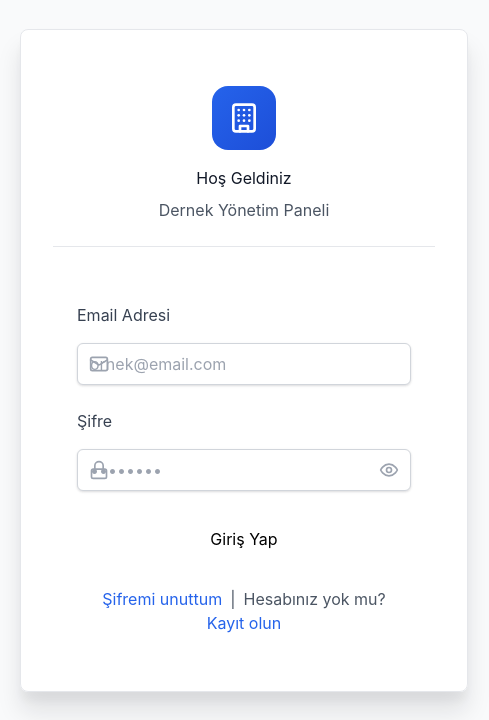
Test: Login Component › validates password length
Type "123" into the password field labelled "Şifre" at (244, 470), box [77, 448, 411, 490]
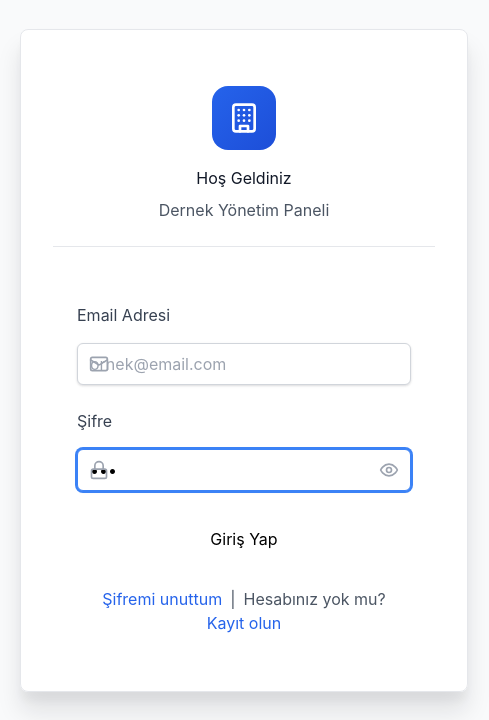
Click the button "Giriş Yap" at (244, 538), box [77, 514, 411, 562]
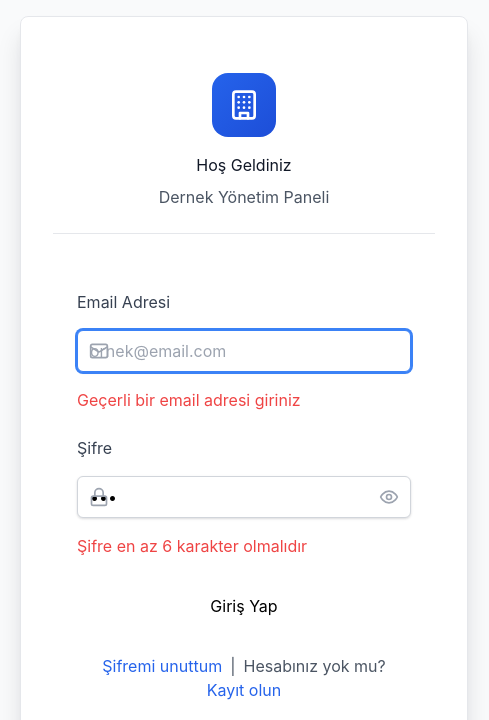
Expected: the text "Şifre en az 6 karakter olmalıdır" is shown, [77, 536, 307, 556]
